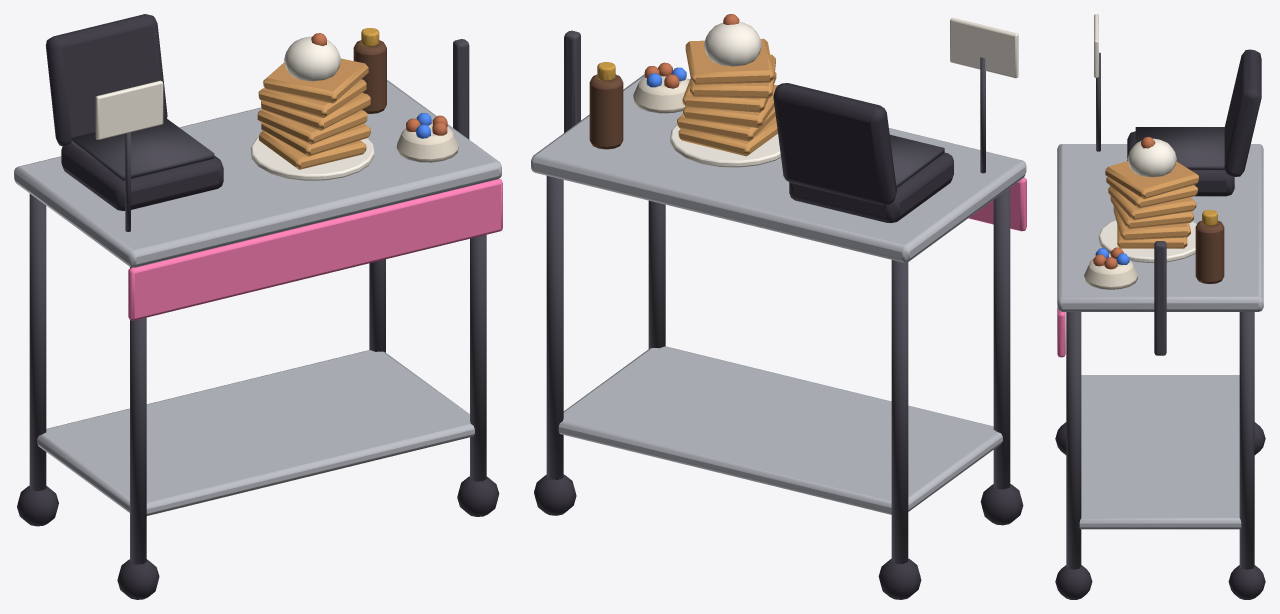
Rendered from waffle_station.glb.
3 renders of one model, left to right at view 1: azimuth 30°, elevation 25°; view 2: azimuth 150°, elevation 25°; view 3: azimuth 270°, elevation 25°, orthographic. The views are drawn at different scales.
Parts seen in each view (by area): view 1: waffle_station; view 2: waffle_station; view 3: waffle_station.
Part boxes in pixels (x1,y1,x2,y2): waffle_station: (14,14,502,599); waffle_station: (531,14,1026,599); waffle_station: (1055,14,1265,599).
Size of the model in its own units: 0.985 by 1.15 by 0.51.
